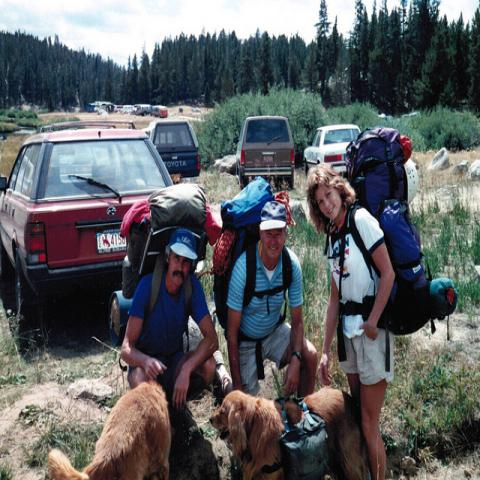car: (0, 119, 173, 327), (236, 115, 296, 190), (306, 123, 361, 176), (152, 124, 201, 182), (150, 105, 162, 117), (115, 106, 123, 112)
truck: (130, 103, 152, 116), (93, 100, 112, 112)
